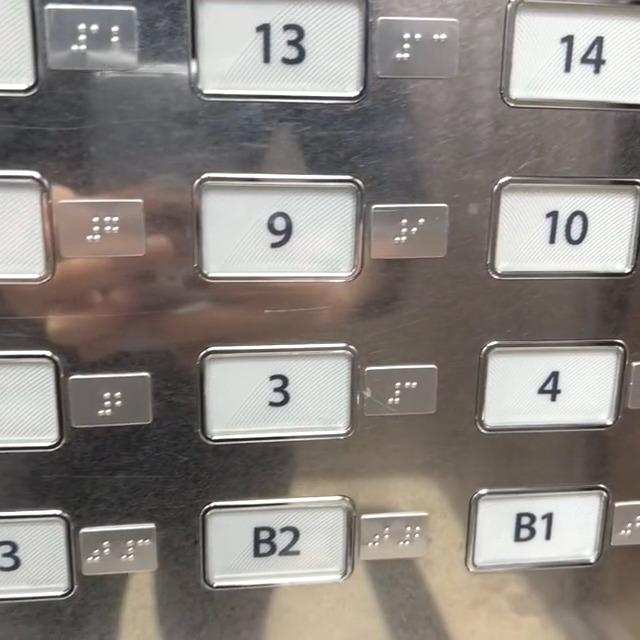button: (191, 177, 375, 282), (194, 0, 376, 101), (196, 348, 362, 450), (485, 176, 640, 284), (205, 502, 362, 592), (478, 342, 626, 437), (469, 488, 608, 581), (505, 9, 640, 100)
